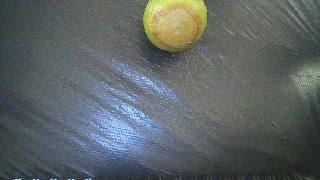DESECHO: (143, 0, 207, 52)
